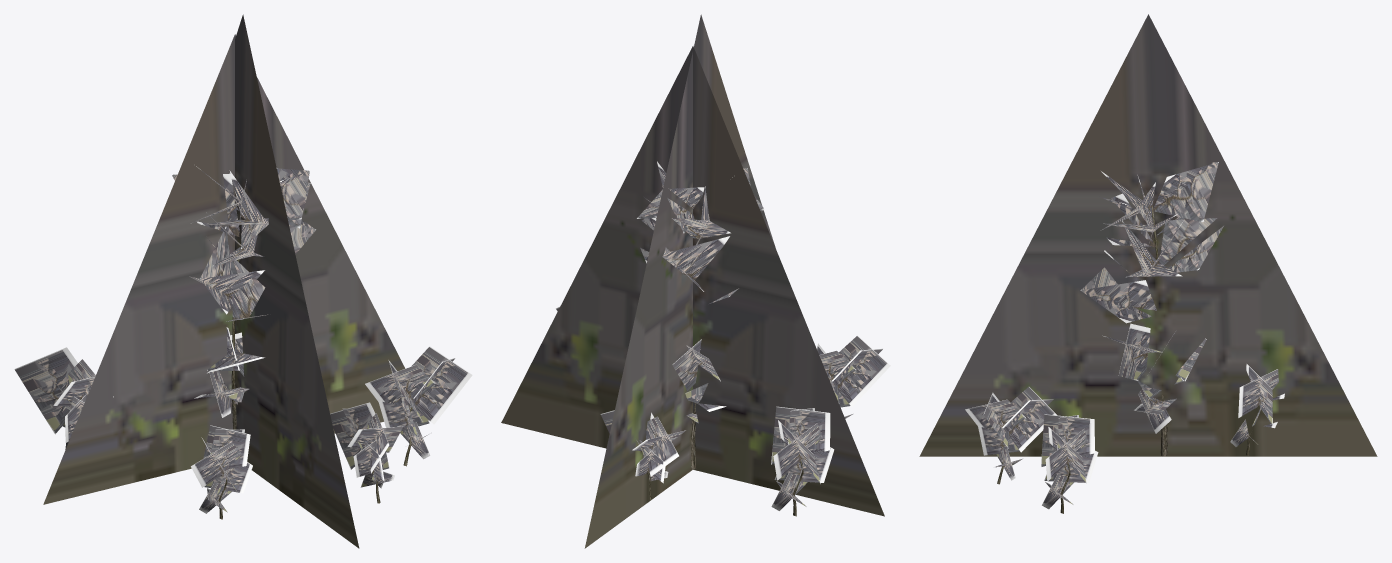
File: Tree-Oak6D.fbx
3 views of the same model, side by side, from view 1: azimuth 30°, elevation 25°; view 2: azimuth 150°, elevation 25°; view 3: azimuth 270°, elevation 25° (orthographic).
Visible parts, largest first — view 1: Billboard-Oak6B, Tree-Oak6D_LOD0; view 2: Billboard-Oak6B, Tree-Oak6D_LOD0; view 3: Billboard-Oak6B, Tree-Oak6D_LOD0.
Part boxes in pixels (bbox=[...]): Billboard-Oak6B: bbox=[43, 14, 405, 548]; Tree-Oak6D_LOD0: bbox=[14, 166, 472, 519]; Billboard-Oak6B: bbox=[501, 14, 884, 548]; Tree-Oak6D_LOD0: bbox=[556, 161, 890, 516]; Billboard-Oak6B: bbox=[919, 14, 1377, 456]; Tree-Oak6D_LOD0: bbox=[965, 162, 1284, 513].
Size of what is drawn, in the model's own units: 1365 by 1528 by 1433.
